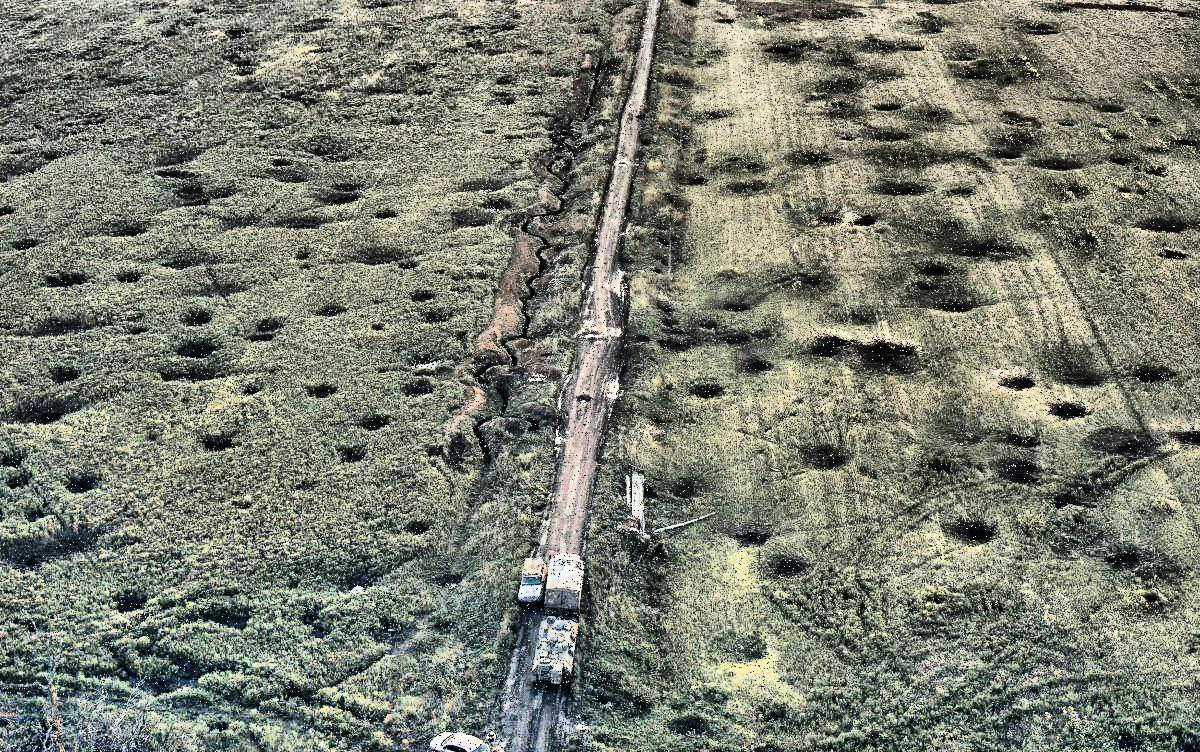military-vehicle: (544, 553, 585, 614)
